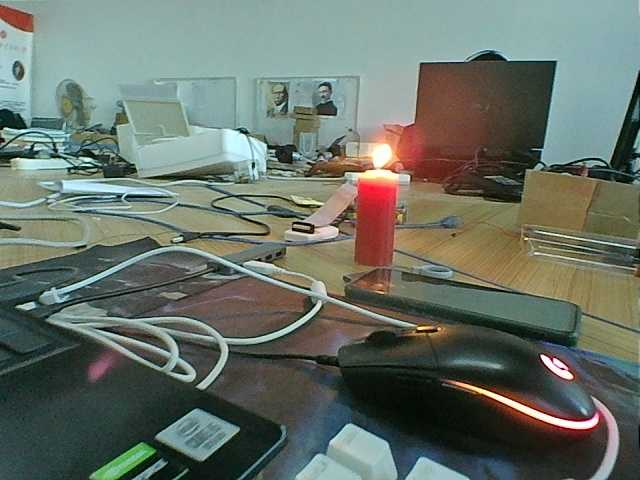candle: (353, 178, 404, 268)
fire: (360, 140, 404, 173)
